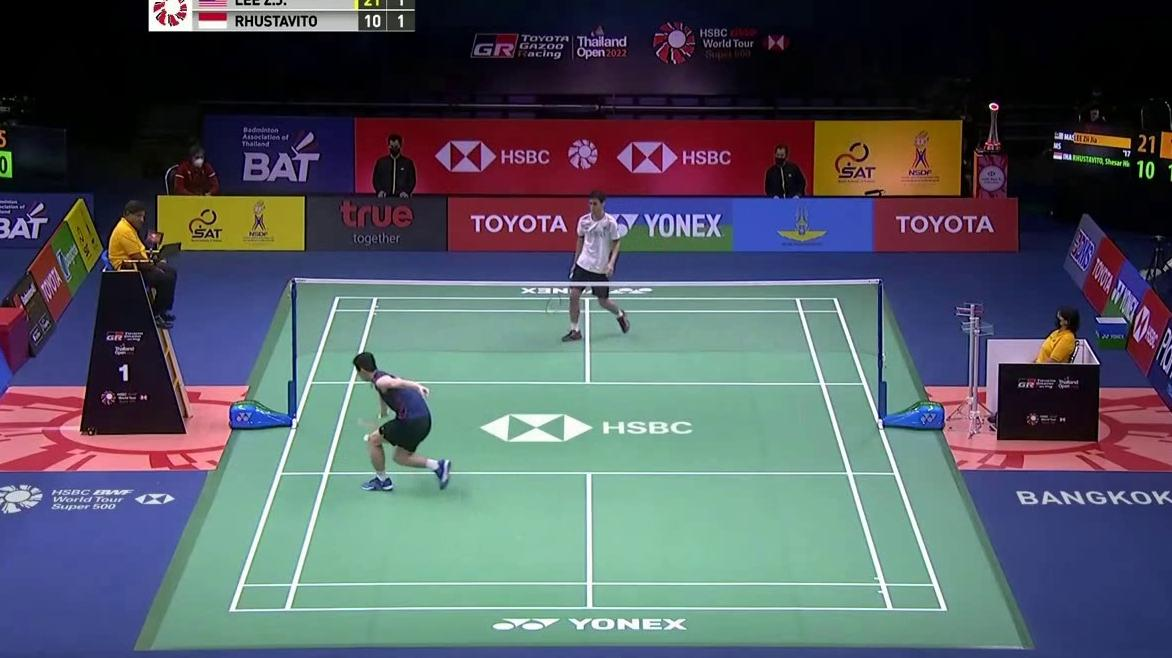racket: (546, 269, 575, 316)
shuttle: (362, 434, 371, 441)
